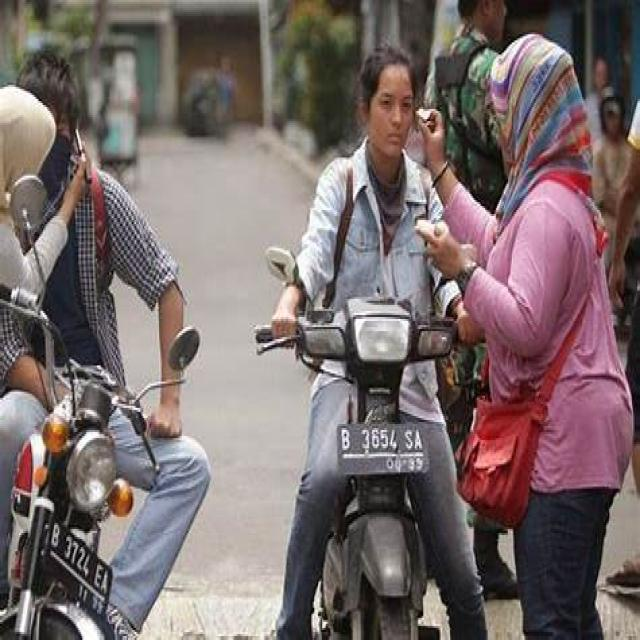Without Helmet: (354, 38, 419, 167)
